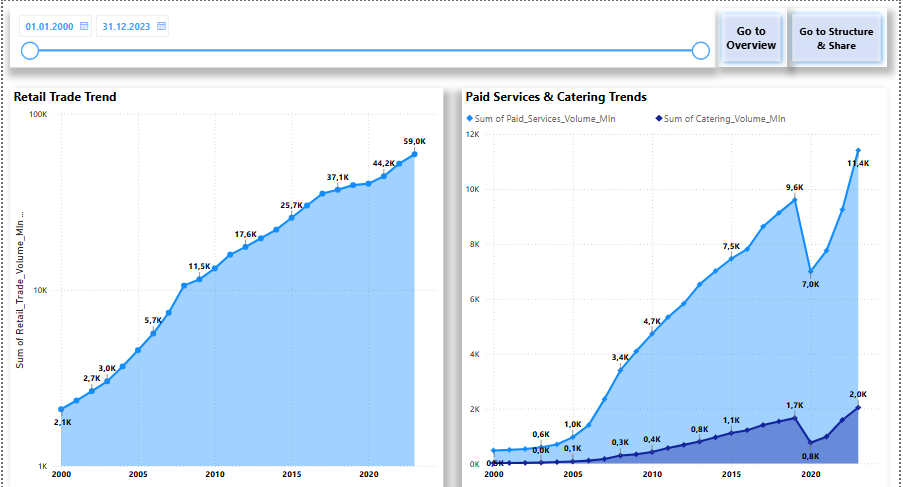

The page's visual inventory and layout, read from the dashboard file:
{"tool":"powerbi","page":{"name":"Trends","canvas":[1280,720],"ordinal":2},"visuals":[{"type":"lineChart","title":"Retail Trade Trend","fields":{"Category":["Calendar.Year"],"Y":["Sum(Retail_Services_Volume.Retail_Trade_Volume_Mln                                                                      "]},"box":[10.1,123.8,619.2,570.2],"z":0},{"type":"slicer","fields":{"Values":["Calendar.Date"]},"box":[10.1,10.1,1008,85],"z":1000},{"type":"lineChart","title":"Paid Services & Catering Trends","fields":{"Category":["Calendar.Year"],"Y":["Sum(Retail_Services_Volume.Paid_Services_Volume_Mln              )","Sum(Retail_Services_Volume.Catering_Volume_Mln                          )"]},"box":[655.2,123.8,607.7,570.2],"z":2000},{"type":"actionButton","box":[1018.1,10.1,100.8,85],"z":3000},{"type":"actionButton","box":[1118.9,10.1,144,85],"z":4000}]}

Visuals, with their boxes on the page's 1280x720 design canvas (x1, y1, x2, y2). These are canvas units, not pixel positions in the 903x487 screenshot, which may show the page scaled, cropped or inside an application window:
"Retail Trade Trend" lineChart: left=10, top=124, right=629, bottom=694
slicer - Calendar.Date: left=10, top=10, right=1018, bottom=95
"Paid Services & Catering Trends" lineChart: left=655, top=124, right=1263, bottom=694
actionButton: left=1018, top=10, right=1119, bottom=95
actionButton: left=1119, top=10, right=1263, bottom=95
